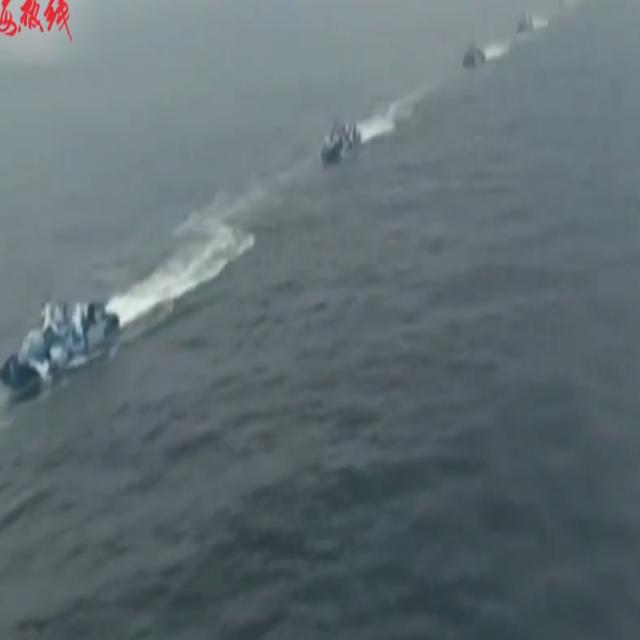navalvessels: (0, 290, 122, 394), (318, 112, 364, 163), (461, 42, 497, 75), (510, 10, 537, 36)
